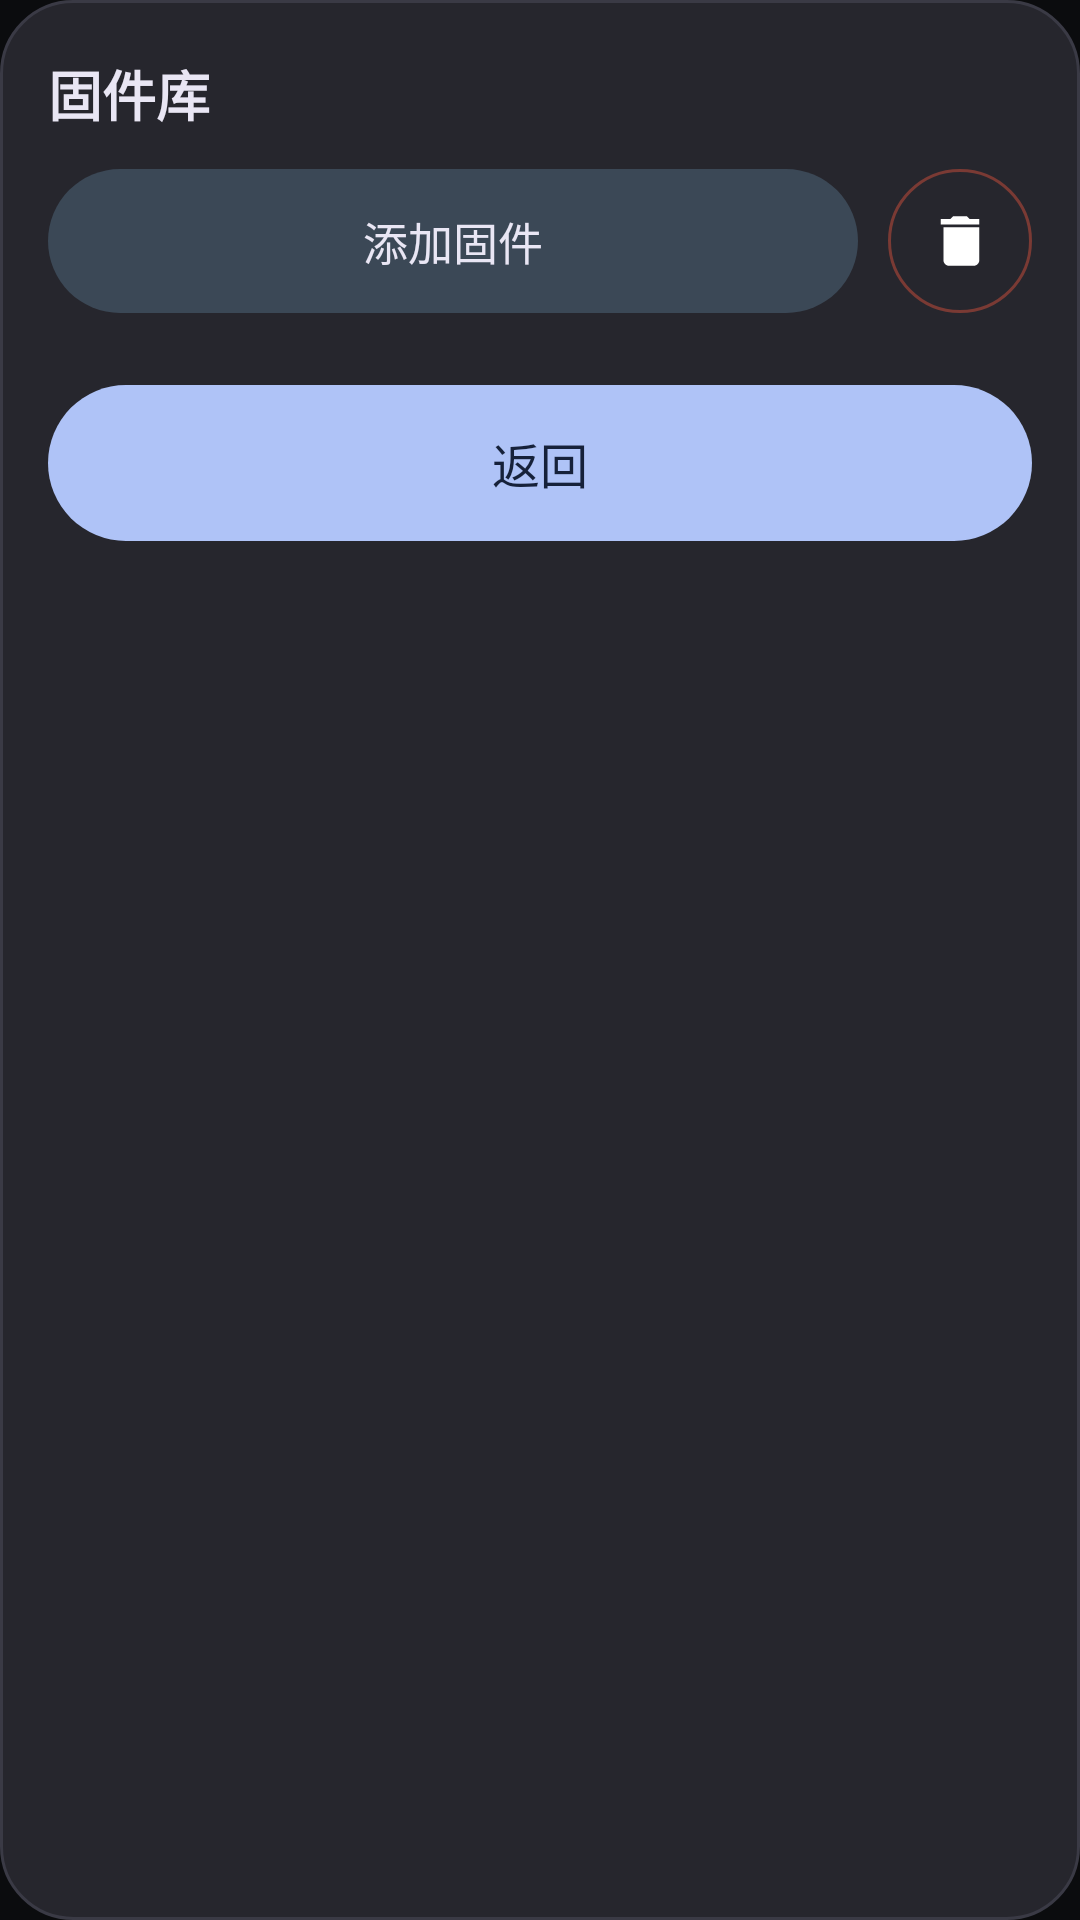

Screen size 1080w x 1920h. Icon name, then its box in pixels as BBox(x1, y1, x2, y2):
清除全部: BBox(888, 169, 1032, 313)
